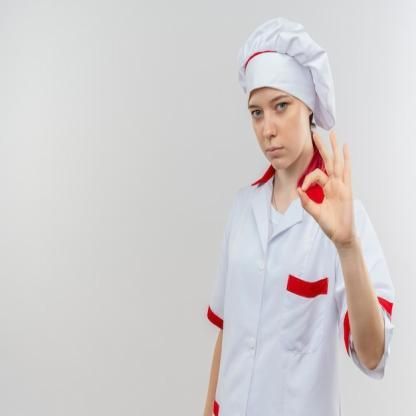ok: (296, 128, 358, 248)
